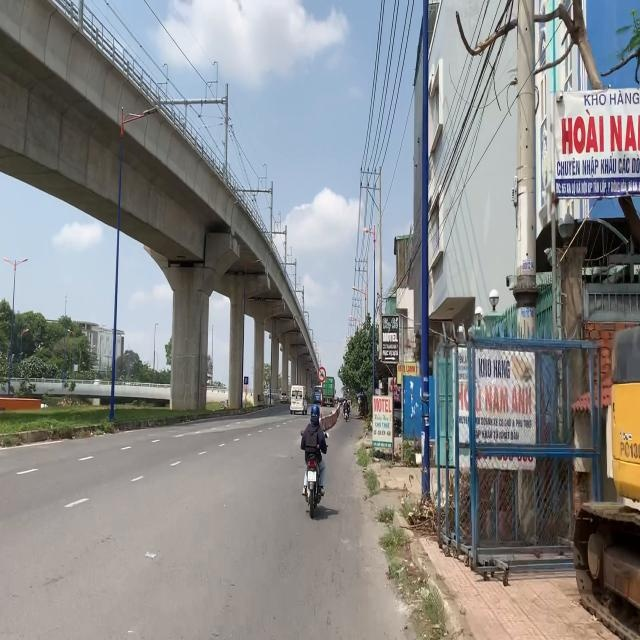bien_cam: (318, 367, 326, 382), (244, 376, 248, 385)
